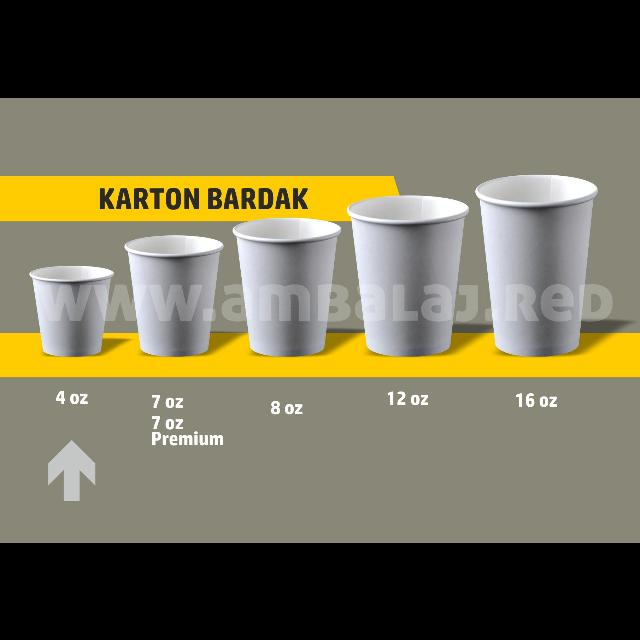trash: (472, 175, 606, 373), (343, 194, 473, 366), (230, 218, 346, 362), (124, 228, 223, 362), (20, 262, 116, 362)
